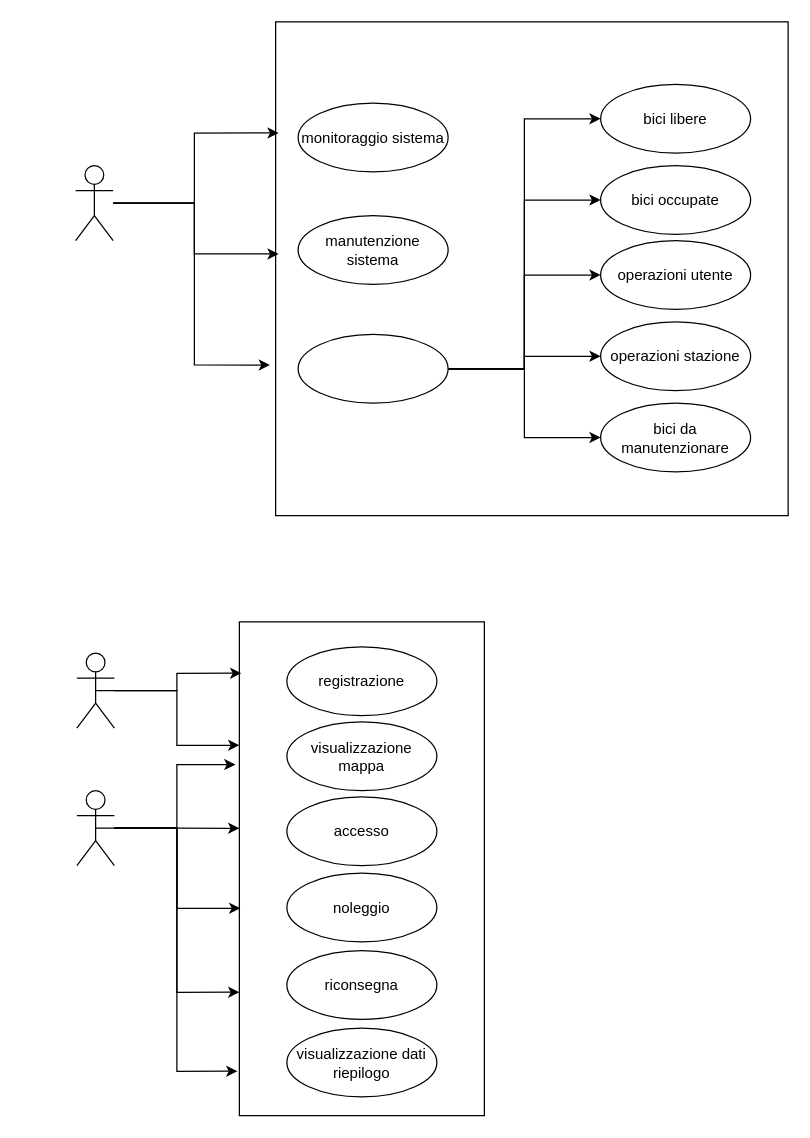
This 810x1138 diagram has some shape labels left out. Here are the shapes that lost their labels. From the top down, the box of each, then its label:
(74, 164, 113, 241): admin
(297, 333, 448, 403): visualizzazione dati
(76, 652, 114, 728): utente non autenticato
(76, 789, 114, 866): utente autenticato
